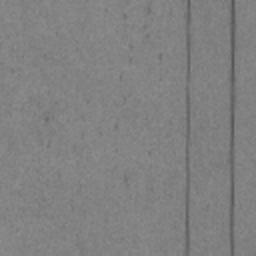Scratches: (184, 0, 192, 256), (228, 0, 236, 253)
